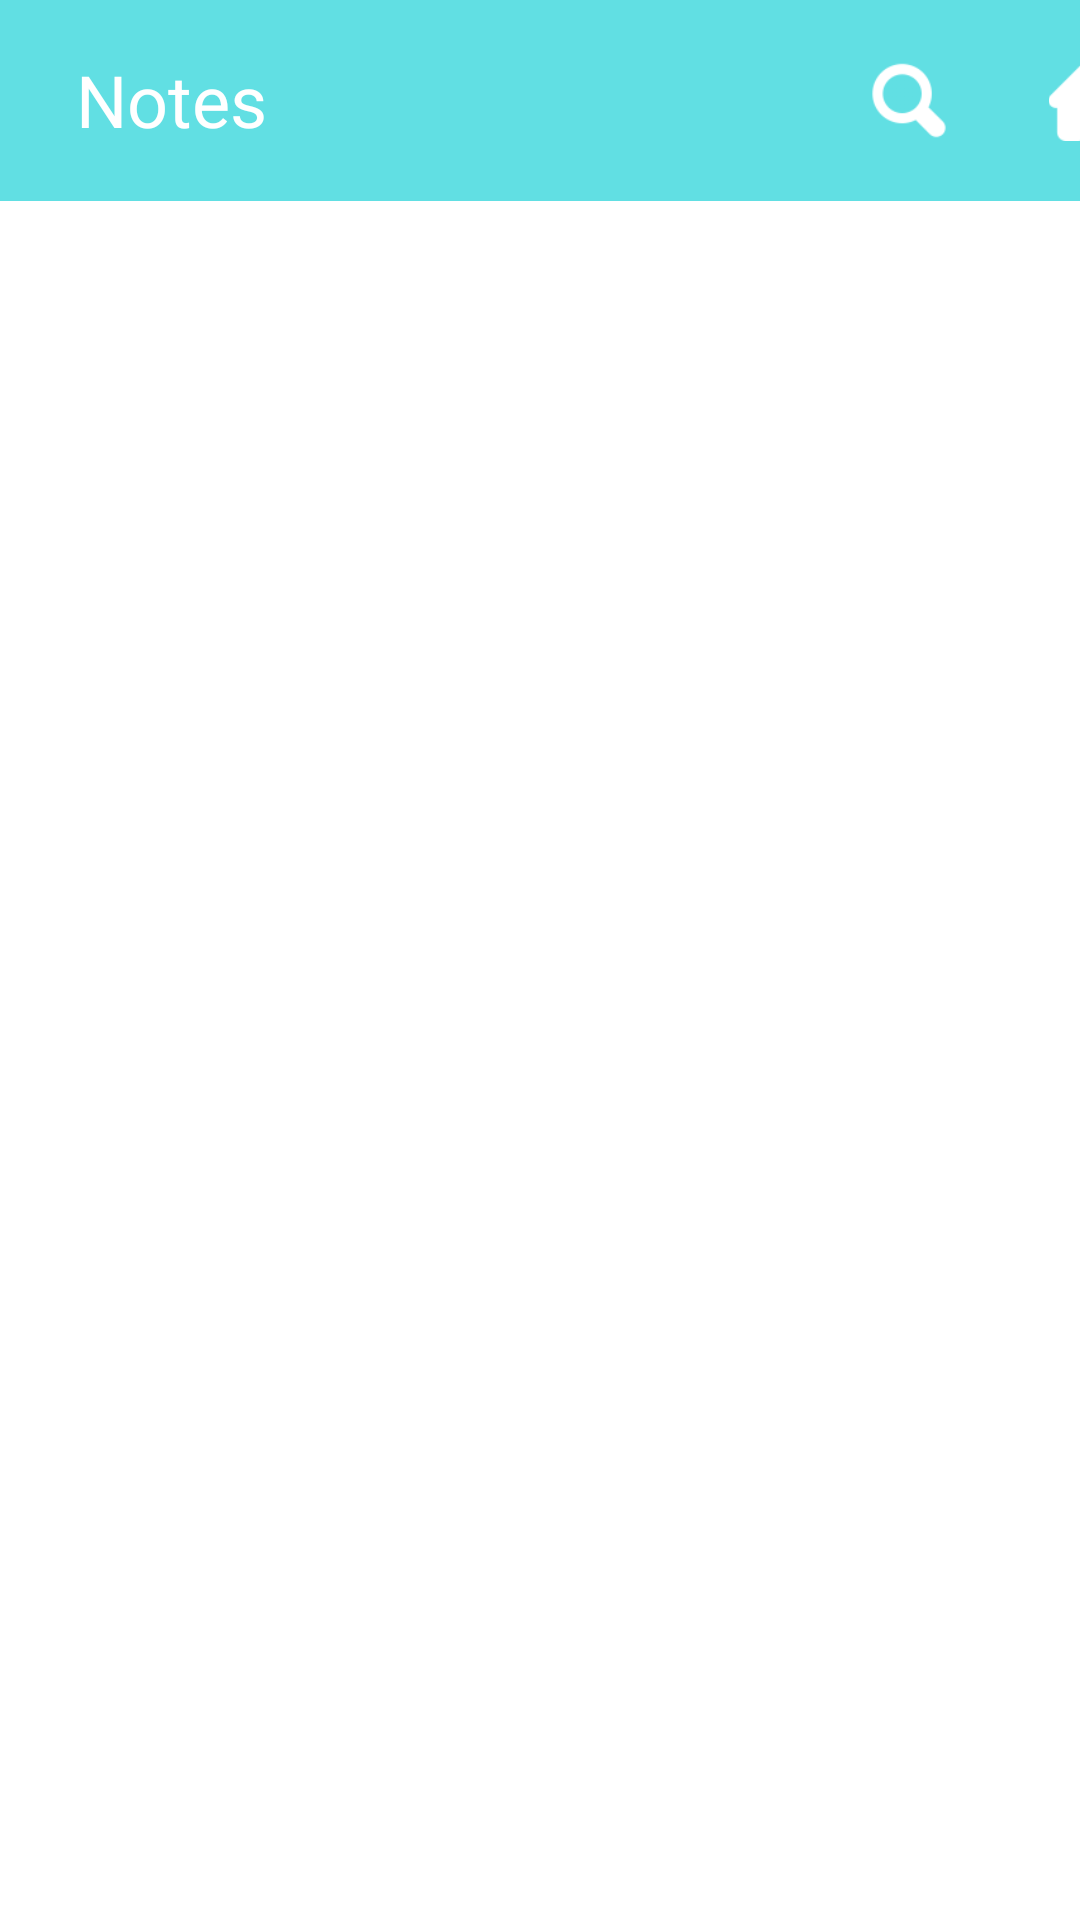

Screen size 1080×1920. Icon name, then its center in pixels as (x=x, y=y):
search: (x=909, y=100)
